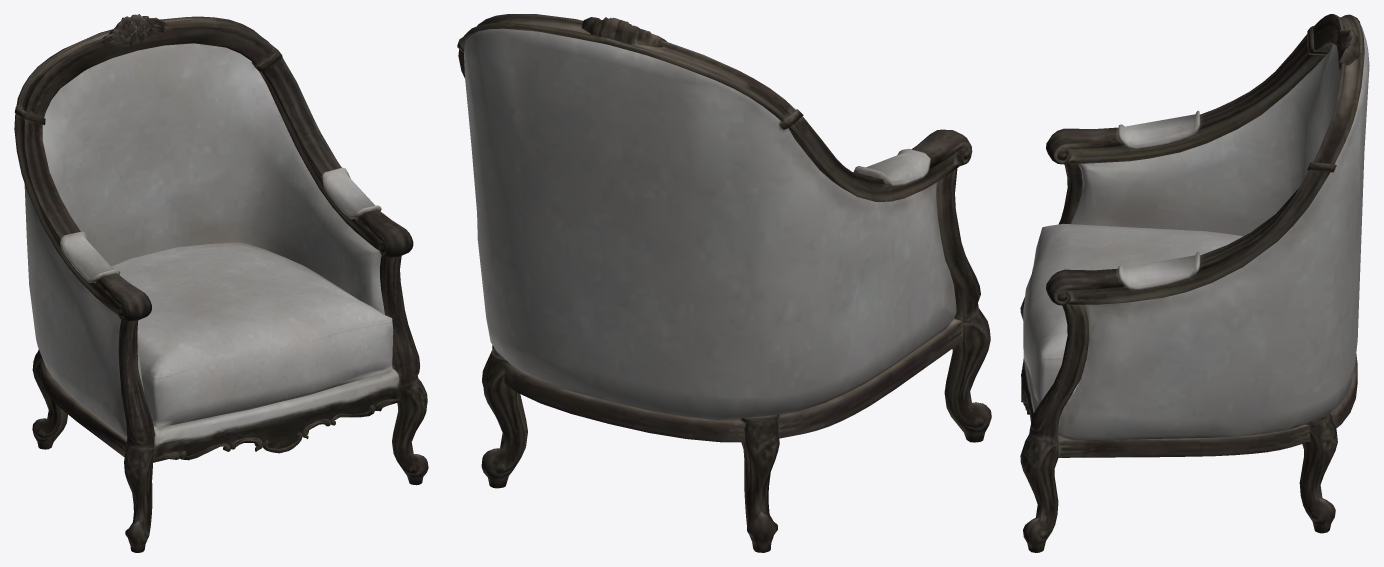
File: ArmChair_01.glb
3 views of the same model, side by side, from view 1: azimuth 30°, elevation 25°; view 2: azimuth 150°, elevation 25°; view 3: azimuth 270°, elevation 25° (orthographic). The views are drawn at different scales.
Visible parts, largest first — view 1: ArmChair_01; view 2: ArmChair_01; view 3: ArmChair_01.
Part boxes in pixels (x1,y1,x2,y2): ArmChair_01: [14, 14, 428, 552]; ArmChair_01: [457, 14, 991, 552]; ArmChair_01: [1020, 14, 1369, 552].
Size of the model in its own units: 0.8483 by 1.06 by 0.7658.
Materials: 1 (1 with a texture image).
